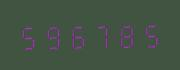eight: (114, 19, 137, 49)
five: (17, 21, 40, 50), (138, 19, 161, 48)
nine: (41, 20, 64, 50)
seven: (90, 20, 113, 49)
six: (66, 20, 89, 50)
